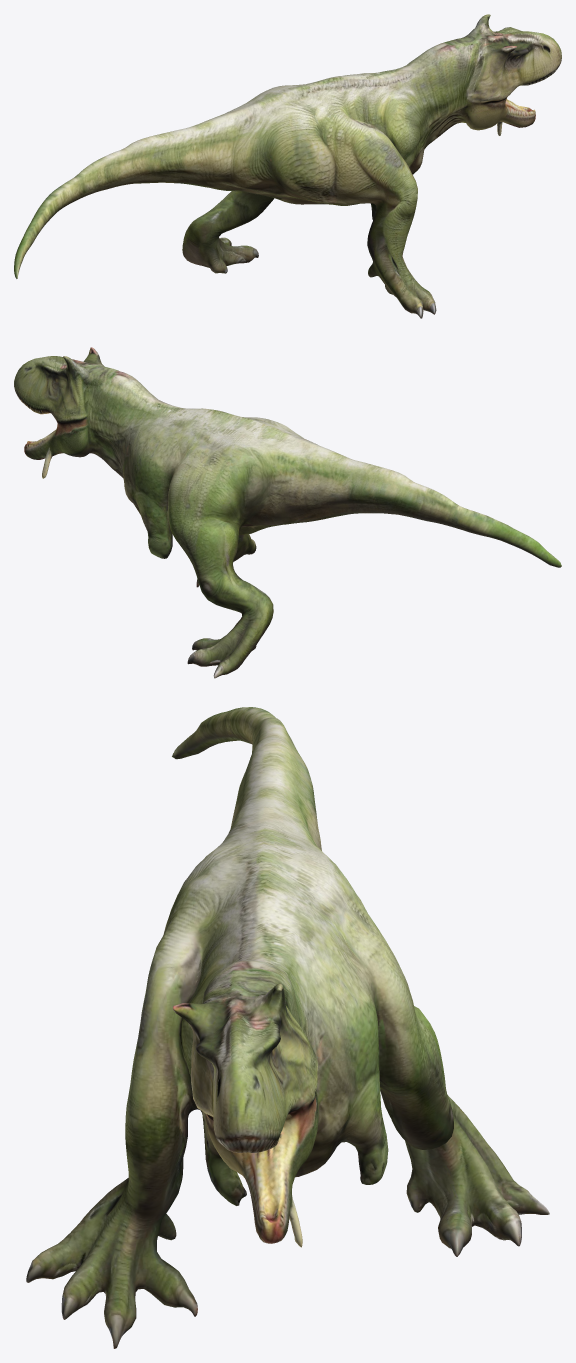
The model's file is 18 Carnotaurus 3D.glb.
3 views of the same model, one above another, from view 1: azimuth 30°, elevation 25°; view 2: azimuth 150°, elevation 25°; view 3: azimuth 270°, elevation 25° (orthographic). The views are drawn at different scales.
Parts seen in each view (by area): view 1: Mesh0; view 2: Mesh0; view 3: Mesh0.
Boxes of the visible parts, <box> form: Mesh0: <box>14,14,561,318</box>; Mesh0: <box>14,347,561,678</box>; Mesh0: <box>26,707,549,1348</box>.
Bounding box in the file's own units: 24.6 × 10.06 × 10.53.
1 material, 1 textured.
